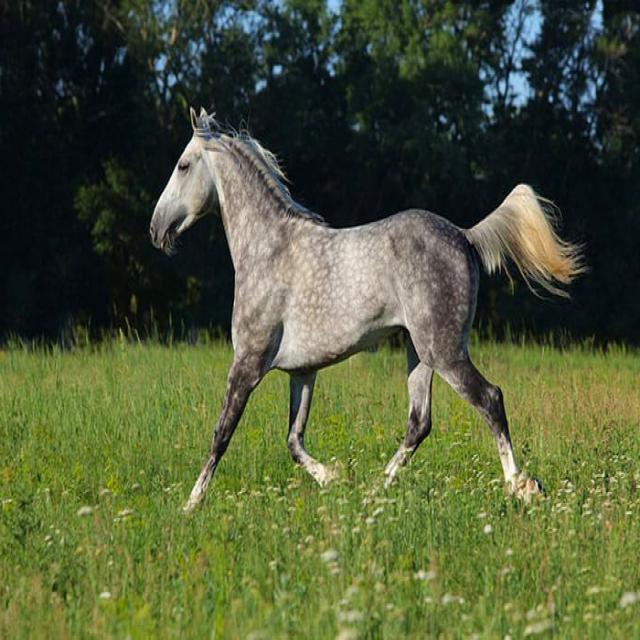horse: (150, 108, 584, 510)
